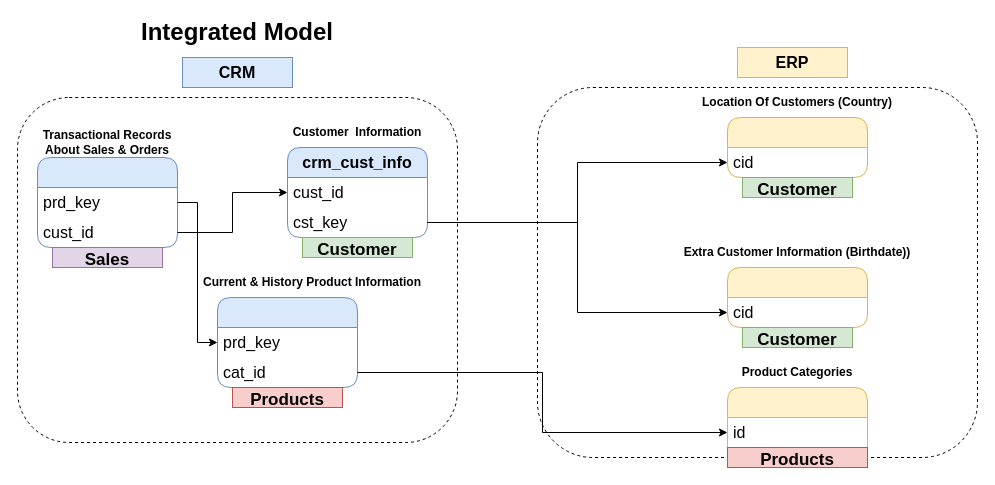
The diagram is 995 pixels wide and 485 high, and some of its shapes have lost their labels. The shapes that lost their labels are listed below. From the top down, each one's box as (x1, y1, x2, y2) in pixels, then its label:
(726, 116, 868, 178): erp_loc_a101
(36, 156, 178, 248): crm_sales_details
(726, 266, 868, 328): erp_cust_az12
(216, 296, 358, 388): crm_prd_info
(726, 386, 868, 468): erp_px_cat_g1v2
